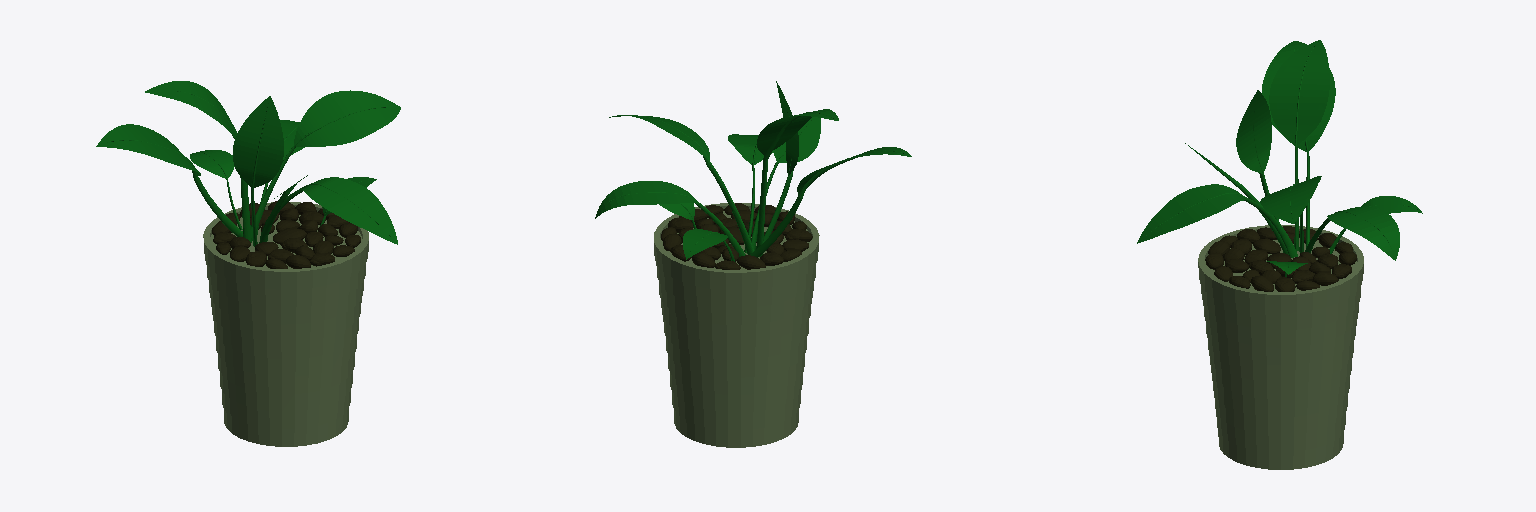
File: flask.obj
3 renders of one model, left to right at view 1: azimuth 30°, elevation 25°; view 2: azimuth 150°, elevation 25°; view 3: azimuth 270°, elevation 25°, orthographic.
Parts seen in each view (by area): view 1: flask_flask_philodendron_Cylinder.033; view 2: flask_flask_philodendron_Cylinder.033; view 3: flask_flask_philodendron_Cylinder.033.
Boxes of the visible parts, <box> form: flask_flask_philodendron_Cylinder.033: <box>96,81,400,446</box>; flask_flask_philodendron_Cylinder.033: <box>595,81,911,447</box>; flask_flask_philodendron_Cylinder.033: <box>1137,40,1422,469</box>.
Bounding box in the file's own units: 0.0707 × 0.0764 × 0.0576.